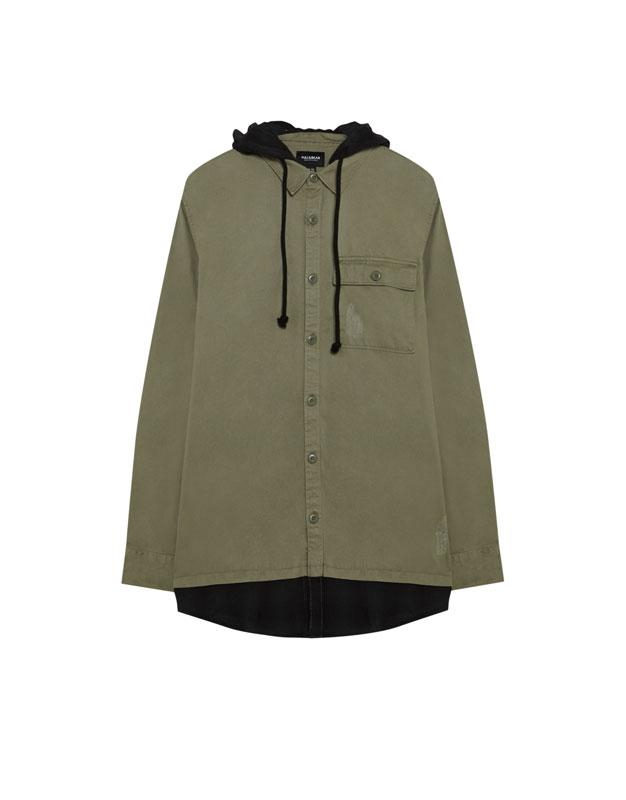teeshirt: (116, 123, 512, 642)
